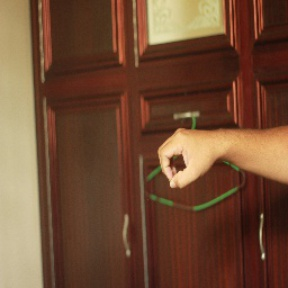O: (157, 122, 219, 191)
